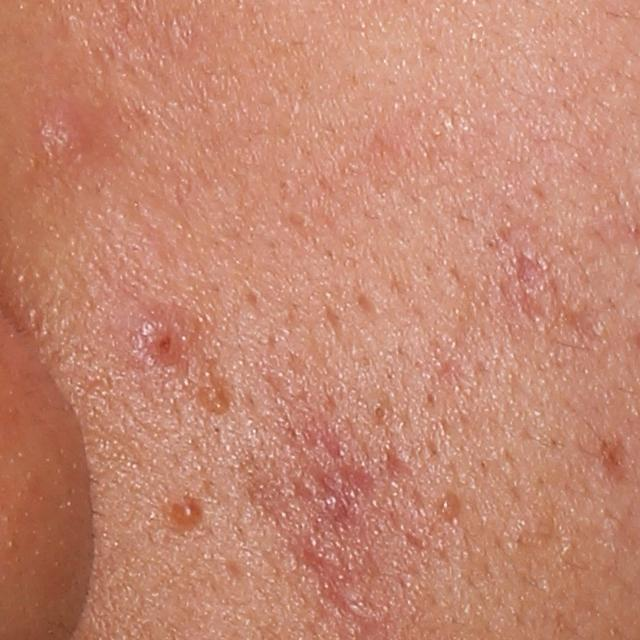atrophic_scar: (502, 231, 618, 347), (381, 440, 413, 483), (402, 526, 432, 557), (322, 302, 347, 339), (354, 289, 383, 318)
comedo: (367, 403, 385, 426)
papule: (119, 306, 201, 372), (31, 95, 95, 171)
